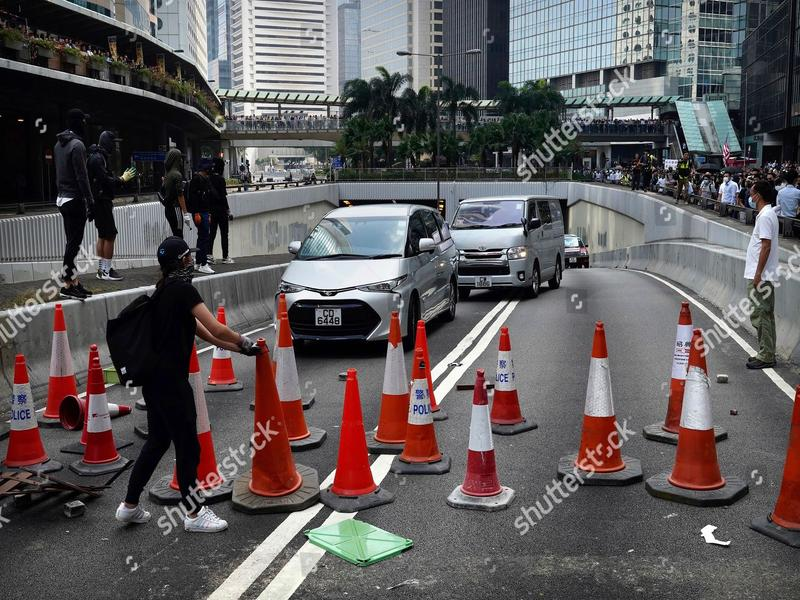Cone: (319, 368, 396, 514)
